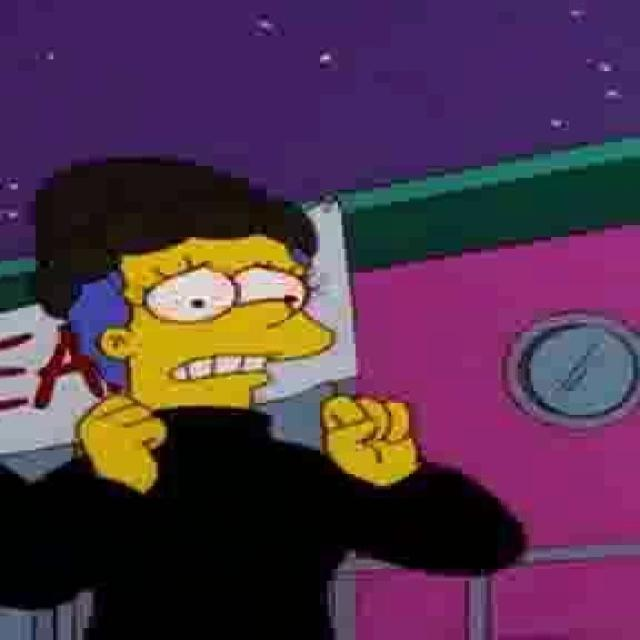Marge Simpson: (34, 161, 343, 432)
